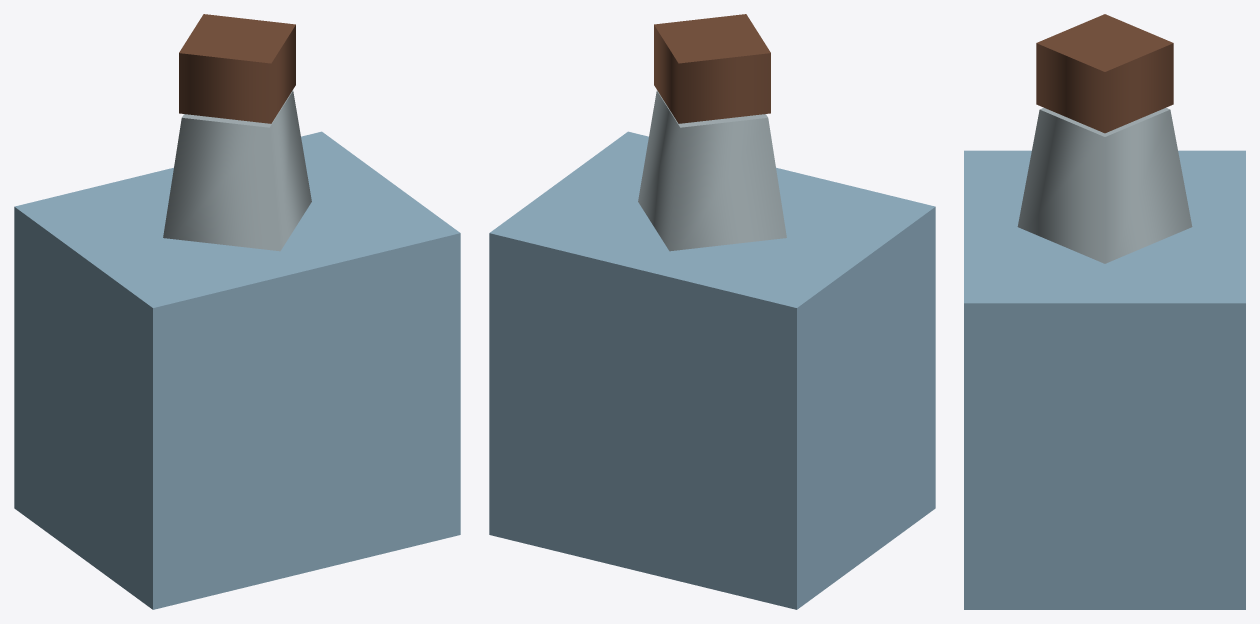
The model's file is potion-4-lod2.glb.
3 views of the same model, side by side, from view 1: azimuth 30°, elevation 25°; view 2: azimuth 150°, elevation 25°; view 3: azimuth 270°, elevation 25° (orthographic).
Parts seen in each view (by area): view 1: piece_whole; view 2: piece_whole; view 3: piece_whole.
Boxes of the visible parts, left/top/right/bottom form: piece_whole: left=14, top=14, right=460, bottom=609; piece_whole: left=489, top=14, right=935, bottom=609; piece_whole: left=964, top=14, right=1245, bottom=609.
Bounding box in the file's own units: 0.32 × 0.48 × 0.25.
